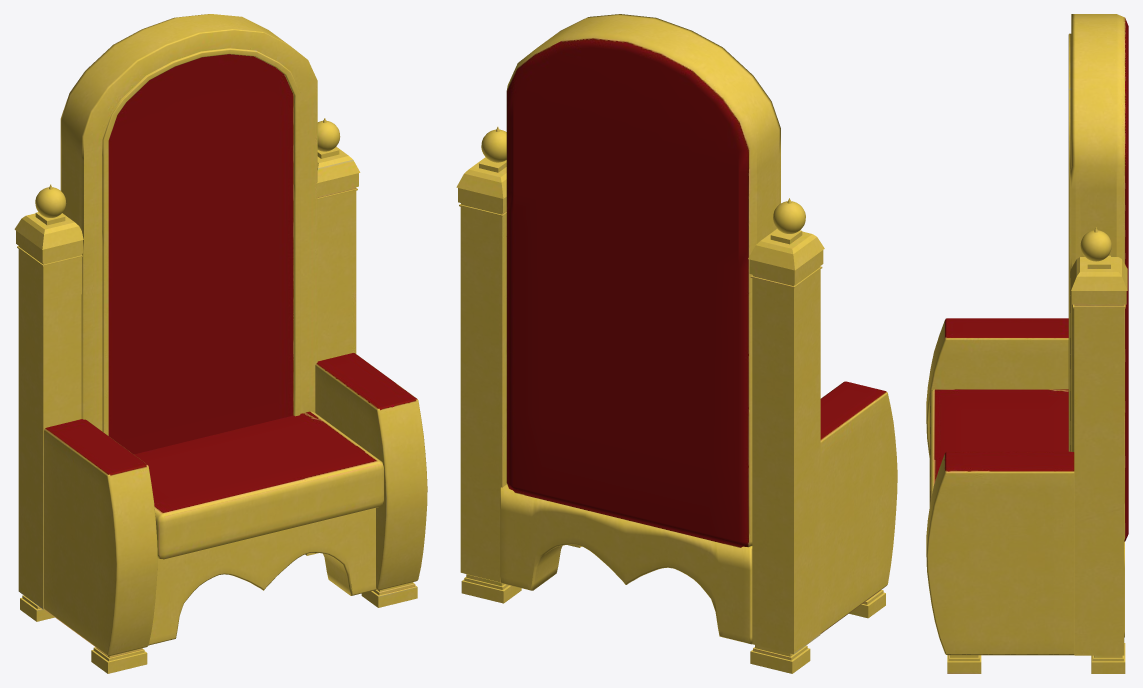
The picture shows the model from 3 angles, left to right: view 1: azimuth 30°, elevation 25°; view 2: azimuth 150°, elevation 25°; view 3: azimuth 270°, elevation 25°; orthographic projection. The views are drawn at different scales.
Parts seen in each view (by area): view 1: chair1; view 2: chair1; view 3: chair1.
Part boxes in pixels (x1,y1,x2,y2): chair1: (14,14,427,673); chair1: (456,14,897,673); chair1: (926,14,1128,673).
Bounding box in the file's own units: 0.6798 × 1.14 × 0.37.
1 material, 1 textured.
